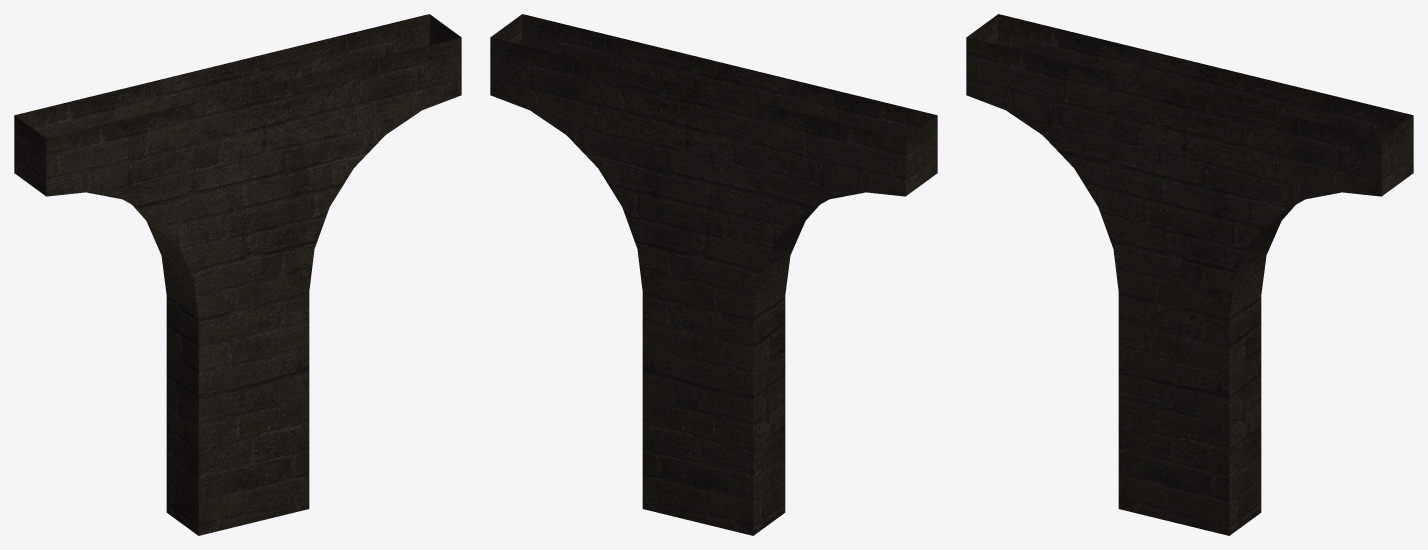
The model's file is half_arc_pillar_2_wall_1_plain.glb.
The picture shows the model from 3 angles, left to right: view 1: azimuth 30°, elevation 25°; view 2: azimuth 150°, elevation 25°; view 3: azimuth 330°, elevation 25°; orthographic projection.
Parts seen in each view (by area): view 1: half_arc_pillar_2_wall_1_plain; view 2: half_arc_pillar_2_wall_1_plain; view 3: half_arc_pillar_2_wall_1_plain.
Part boxes in pixels (x1,y1,x2,y2): half_arc_pillar_2_wall_1_plain: [14, 14, 461, 535]; half_arc_pillar_2_wall_1_plain: [490, 14, 937, 535]; half_arc_pillar_2_wall_1_plain: [966, 14, 1413, 535].
Bounding box in the file's own units: 3 × 3 × 0.4.
1 material, 1 textured.
